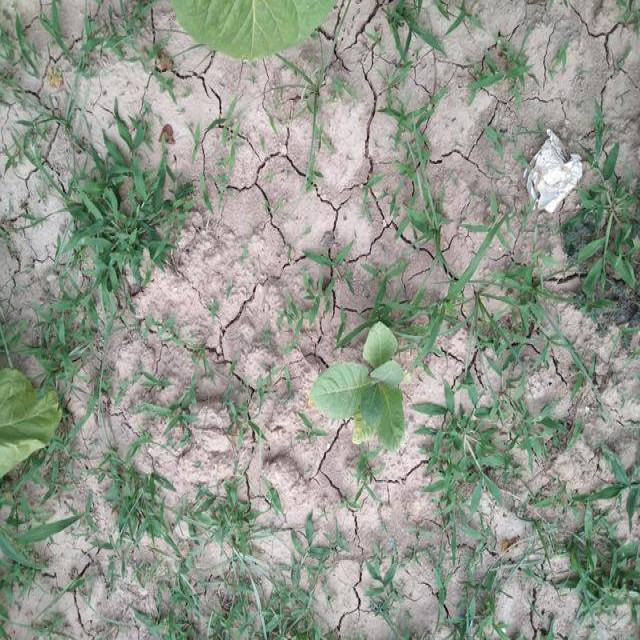crop: (314, 326, 410, 459), (169, 0, 346, 65), (1, 367, 54, 480)
